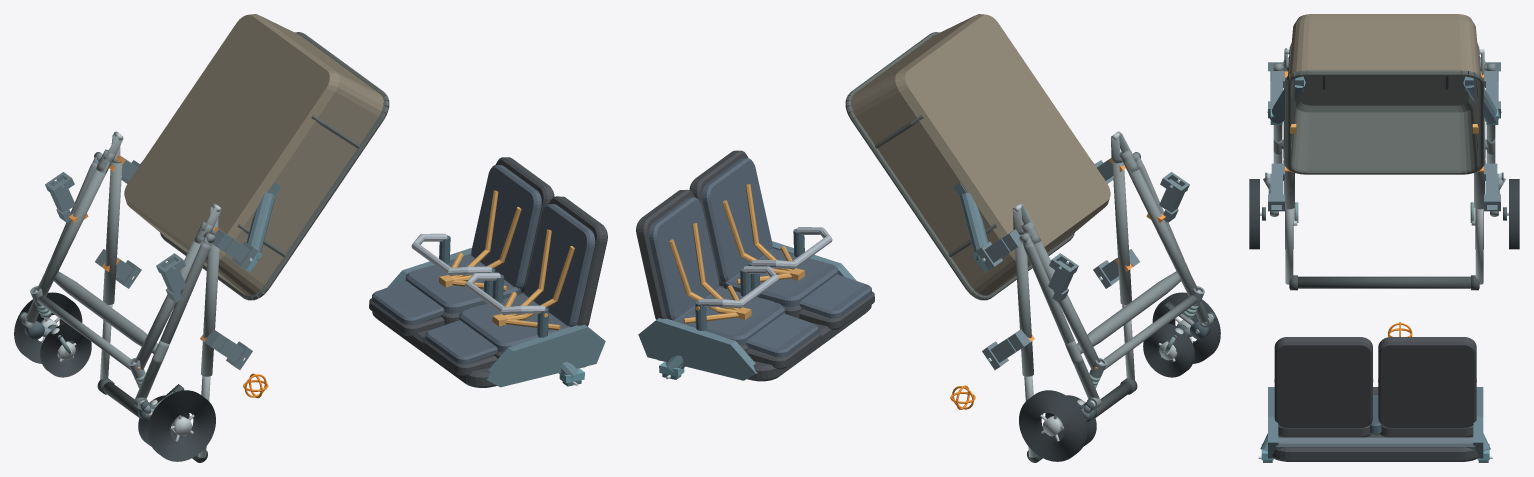
The model's file is D28_w650_state3_wheel_S.glb.
3 views of the same model, side by side, from view 1: azimuth 30°, elevation 25°; view 2: azimuth 150°, elevation 25°; view 3: azimuth 270°, elevation 25° (orthographic). The views are drawn at different scales.
Visible parts, largest first — view 1: D28_Lower, D28_Upper, RL_tire.011, FR_tire.011, main_upper_1.012, V46_rearbar.011, main_lower_1.012, V46_rear_leg_-1.011, main_upper_-1.012, RR_tire.011, main_lower_-1.012, D28_Lower_Mount_M (+7 smaller); view 2: D28_Lower, D28_Upper, RR_tire.011, FL_tire.011, main_upper_-1.012, main_lower_-1.012, V46_rearbar.011, V46_rear_leg_1.011, main_upper_1.012, RL_tire.011, main_lower_1.012, D28_Lower_Mount_M (+7 smaller); view 3: D28_Lower, D28_Upper, round_handle.013, D28_Lower_Mount_M, RL_tire.011, RR_tire.011, Universal_Cabin_Receiver_H_1, Universal_Cabin_Receiver_H_-1, handle_slider_1.013, handle_slider_-1.013, main_upper_1.012, main_upper_-1.012 (+3 smaller).
Part boxes in pixels (x1,y1,x2,y2): D28_Lower: [124, 14, 389, 300]; D28_Upper: [369, 157, 607, 387]; RL_tire.011: [147, 390, 215, 461]; FR_tire.011: [40, 323, 91, 377]; main_upper_1.012: [103, 162, 122, 304]; V46_rearbar.011: [54, 271, 157, 353]; main_lower_1.012: [36, 162, 109, 296]; V46_rear_leg_-1.011: [135, 242, 211, 398]; main_upper_-1.012: [201, 235, 219, 376]; RR_tire.011: [14, 292, 82, 363]; main_lower_-1.012: [134, 239, 203, 369]; D28_Lower_Mount_M: [140, 161, 281, 271]; D28_Lower: [845, 14, 1110, 300]; D28_Upper: [636, 150, 874, 381]; RR_tire.011: [1019, 390, 1087, 461]; FL_tire.011: [1143, 323, 1194, 377]; main_upper_-1.012: [1112, 162, 1131, 304]; main_lower_-1.012: [1125, 162, 1198, 296]; V46_rearbar.011: [1077, 271, 1180, 353]; V46_rear_leg_1.011: [1023, 242, 1099, 398]; main_upper_1.012: [1015, 235, 1033, 376]; RL_tire.011: [1152, 292, 1220, 363]; main_lower_1.012: [1031, 239, 1100, 369]; D28_Lower_Mount_M: [953, 161, 1094, 271]; D28_Lower: [1285, 14, 1483, 174]; D28_Upper: [1268, 337, 1483, 461]; round_handle.013: [1289, 276, 1479, 288]; D28_Lower_Mount_M: [1267, 76, 1501, 124]; RL_tire.011: [1249, 179, 1259, 249]; RR_tire.011: [1509, 179, 1519, 249]; Universal_Cabin_Receiver_H_1: [1484, 163, 1500, 211]; Universal_Cabin_Receiver_H_-1: [1268, 163, 1284, 211]; handle_slider_1.013: [1475, 209, 1483, 284]; handle_slider_-1.013: [1285, 209, 1293, 284]; main_upper_1.012: [1474, 80, 1485, 209]; main_upper_-1.012: [1283, 80, 1294, 209].
Bounding box in the file's own units: 1.51 × 1.08 × 0.766.
